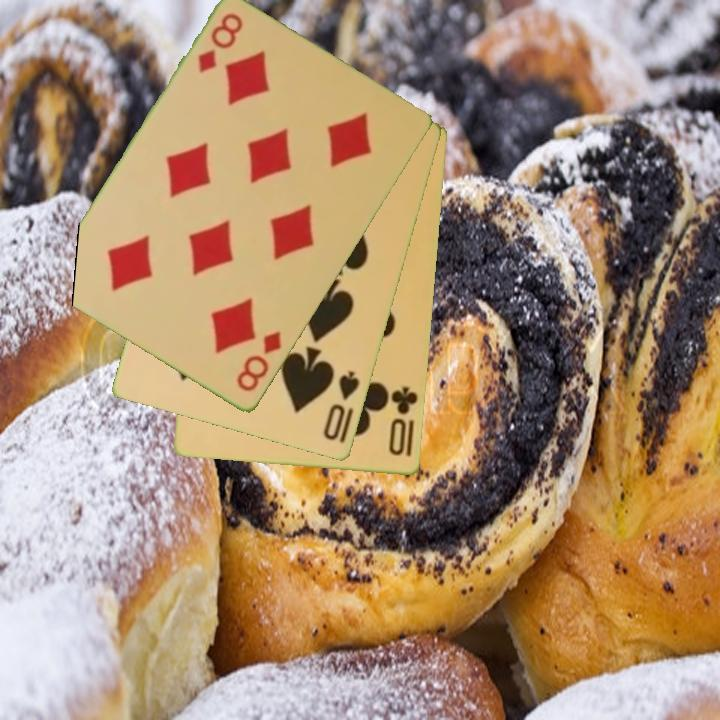10c: (385, 384, 421, 459)
10s: (320, 367, 363, 444)
8d: (233, 328, 285, 396), (194, 10, 246, 78)
